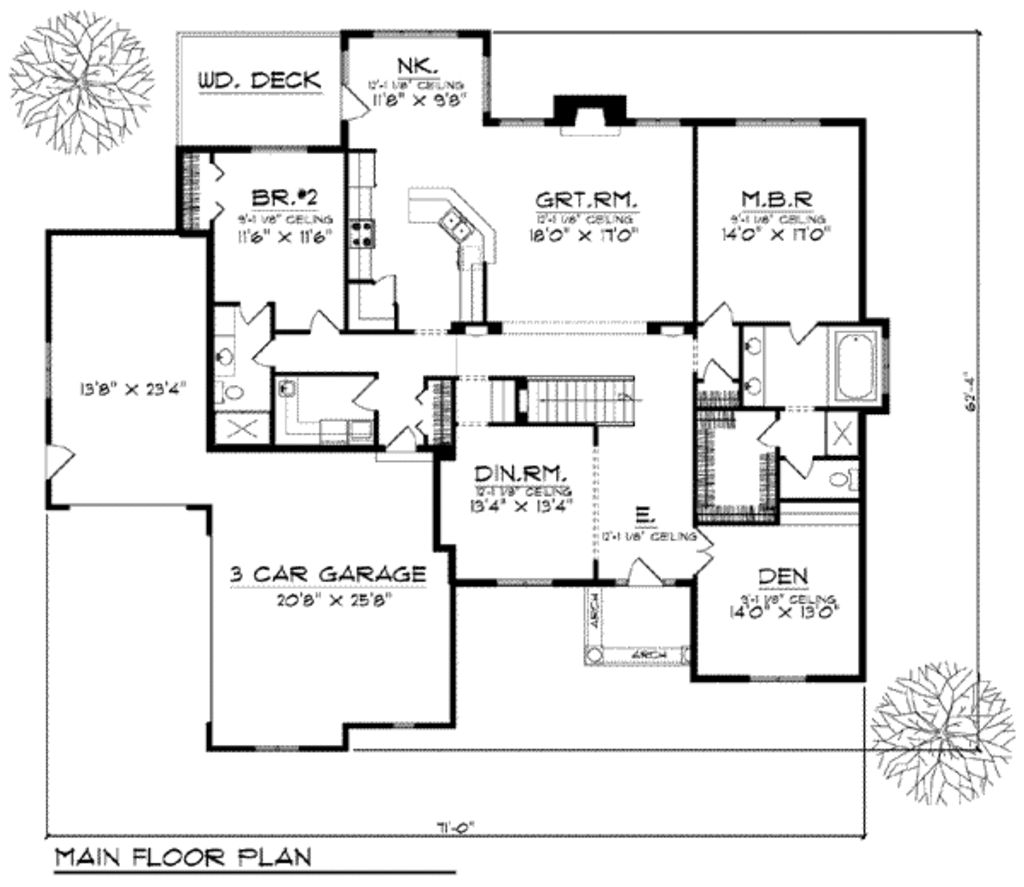door: (40, 437, 82, 482), (625, 555, 670, 589), (701, 355, 742, 388), (750, 410, 781, 453), (341, 80, 370, 124), (300, 307, 341, 336), (354, 374, 379, 414), (783, 451, 816, 480), (701, 302, 732, 329)
kitchen_bar: (402, 185, 507, 272)
large_sink: (822, 462, 861, 492), (212, 379, 249, 408)
small_sink: (735, 319, 763, 408), (210, 337, 241, 383)
stairs: (488, 371, 637, 435)
tub: (827, 323, 889, 406)
windows: (368, 21, 459, 43), (729, 113, 829, 133), (742, 665, 814, 684), (490, 573, 554, 593), (245, 140, 308, 160), (494, 112, 549, 134), (239, 741, 304, 757)
